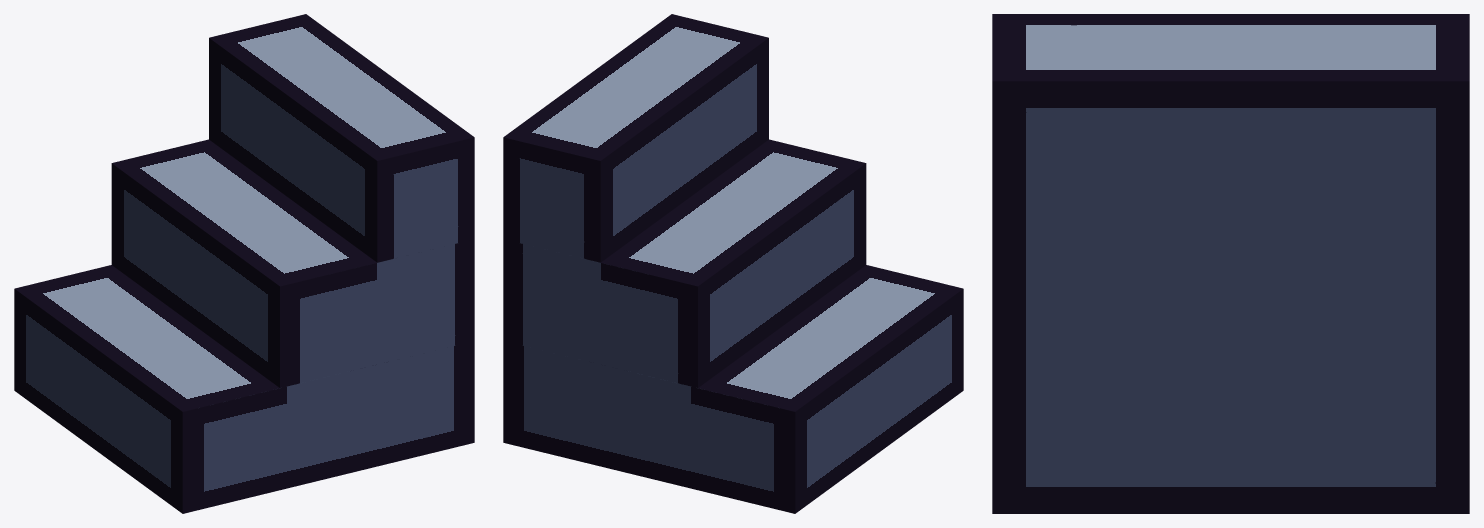
Rendered from Stairs.gltf.
3 views of the same model, side by side, from view 1: azimuth 30°, elevation 25°; view 2: azimuth 150°, elevation 25°; view 3: azimuth 270°, elevation 25° (orthographic). The views are drawn at different scales.
Visible parts, largest first — view 1: mesh; view 2: mesh; view 3: mesh.
Boxes of the visible parts, x1,y1,x2,y2 form: mesh: [14, 14, 474, 513]; mesh: [503, 14, 963, 513]; mesh: [992, 14, 1469, 513].
Size of the model in its own units: 1 by 1 by 1.
Materials: 1 (1 with a texture image).
